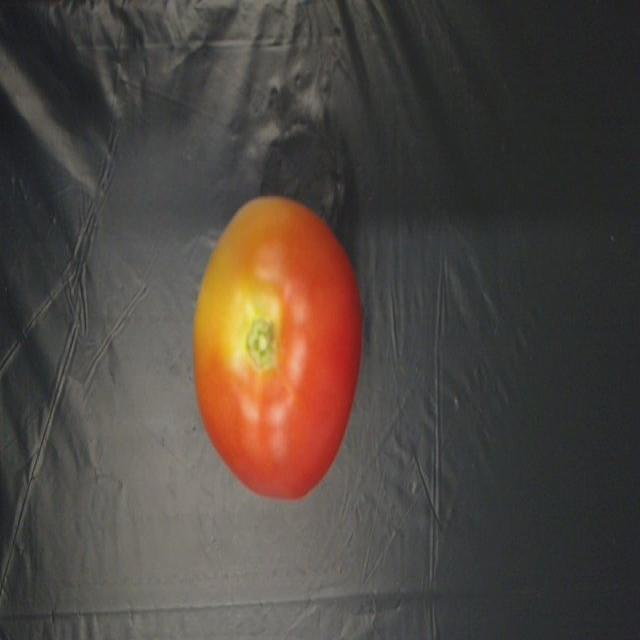sari: (196, 200, 351, 497)
